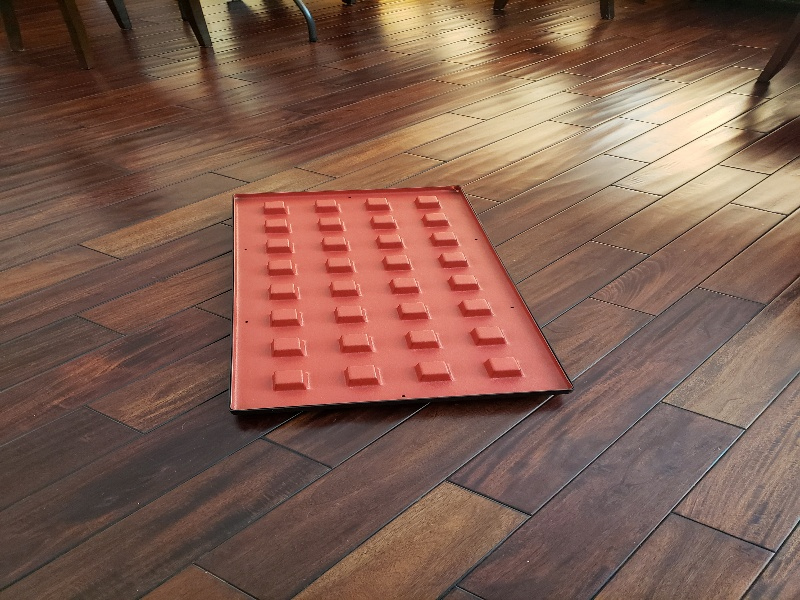ftc_base: (215, 182, 592, 416)
